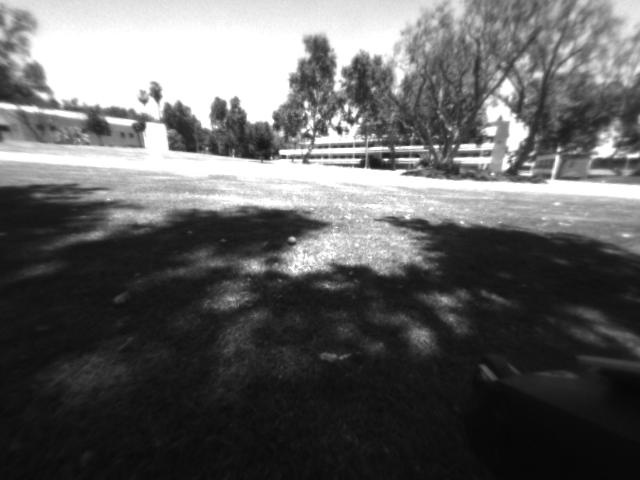dogtoy: (284, 232, 301, 250)
